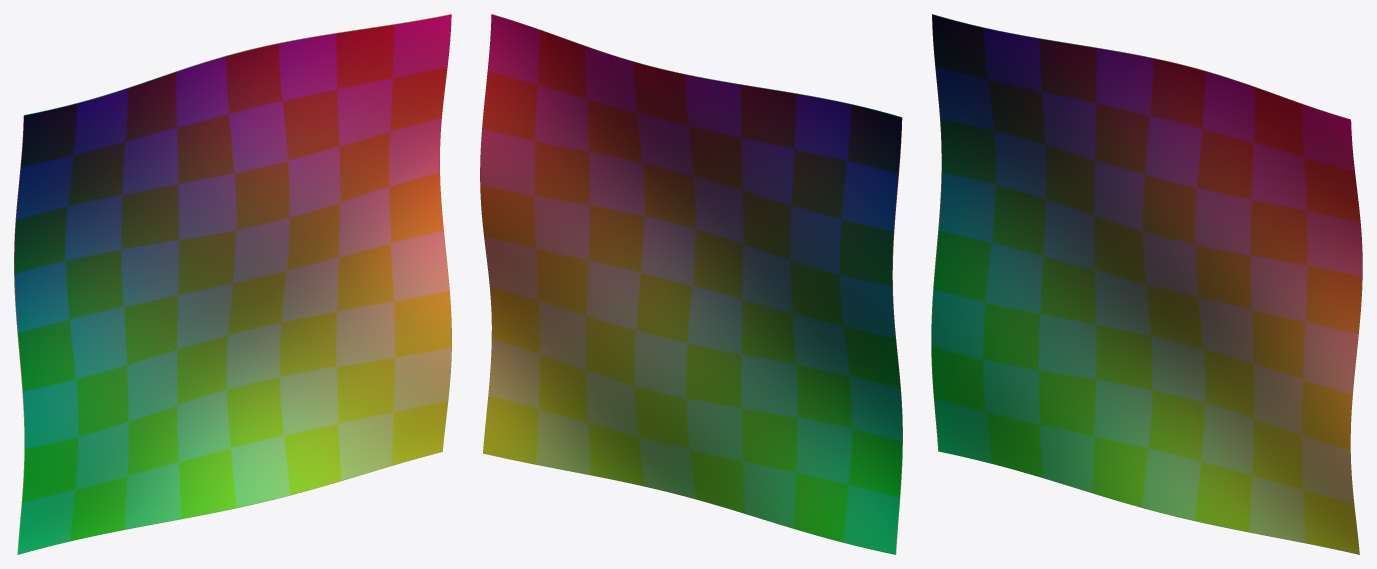
File: Tile_+017_+007.obj
3 views of the same model, side by side, from view 1: azimuth 30°, elevation 25°; view 2: azimuth 150°, elevation 25°; view 3: azimuth 330°, elevation 25° (orthographic). The views are drawn at different scales.
Size of the model in its own units: 100 by 100 by 6.07.
